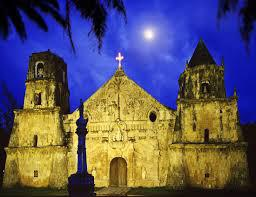miagao_church_miagao_iloilo: (3, 33, 253, 189)
